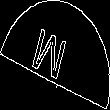M_S: (34, 23, 76, 87)
